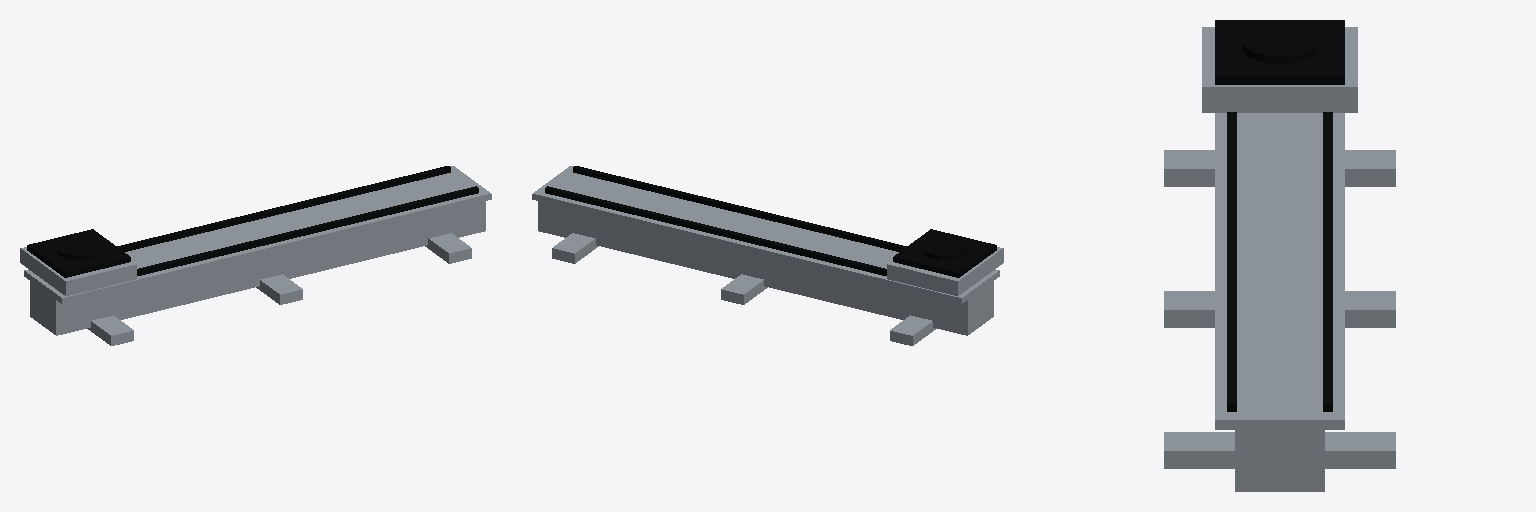
The robot description file, URDF, robot "m0617_rail_prototype":
<?xml version="1.0"?>
<robot name="m0617_rail_prototype">
  <!-- Prototype dimensions. Validate all permanent rail specifications before fabrication. -->
  <material name="rail_aluminum">
    <color rgba="0.62 0.65 0.68 1.0"/>
  </material>
  <material name="rail_dark_metal">
    <color rgba="0.06 0.07 0.08 1.0"/>
  </material>
  <material name="rail_rubber">
    <color rgba="0.025 0.025 0.025 1.0"/>
  </material>

  <link name="world"/>

  <link name="rail_base_link">
    <visual>
      <origin xyz="0 0 0.18" rpy="0 0 0"/>
      <geometry><box size="3.0 0.32 0.24"/></geometry>
      <material name="rail_aluminum"/>
    </visual>
    <visual>
      <origin xyz="0 0 0.32" rpy="0 0 0"/>
      <geometry><box size="3.0 0.46 0.04"/></geometry>
      <material name="rail_aluminum"/>
    </visual>
    <visual>
      <origin xyz="0 0.17 0.355" rpy="0 0 0"/>
      <geometry><box size="2.88 0.035 0.035"/></geometry>
      <material name="rail_dark_metal"/>
    </visual>
    <visual>
      <origin xyz="0 -0.17 0.355" rpy="0 0 0"/>
      <geometry><box size="2.88 0.035 0.035"/></geometry>
      <material name="rail_dark_metal"/>
    </visual>
    <visual>
      <origin xyz="-1.18 0 0.07" rpy="0 0 0"/>
      <geometry><box size="0.16 0.82 0.07"/></geometry>
      <material name="rail_aluminum"/>
    </visual>
    <visual>
      <origin xyz="0 0 0.07" rpy="0 0 0"/>
      <geometry><box size="0.16 0.82 0.07"/></geometry>
      <material name="rail_aluminum"/>
    </visual>
    <visual>
      <origin xyz="1.18 0 0.07" rpy="0 0 0"/>
      <geometry><box size="0.16 0.82 0.07"/></geometry>
      <material name="rail_aluminum"/>
    </visual>
    <collision>
      <origin xyz="0 0 0.165" rpy="0 0 0"/>
      <geometry><box size="3.0 0.46 0.33"/></geometry>
    </collision>
  </link>

  <joint name="world_to_rail_base" type="fixed">
    <parent link="world"/>
    <child link="rail_base_link"/>
    <origin xyz="0 0 0" rpy="0 0 0"/>
  </joint>

  <link name="rail_carriage_link">
    <visual>
      <origin xyz="0 0 0.05" rpy="0 0 0"/>
      <geometry><box size="0.50 0.55 0.10"/></geometry>
      <material name="rail_aluminum"/>
    </visual>
    <visual>
      <origin xyz="0 0 0.1175" rpy="0 0 0"/>
      <geometry><box size="0.46 0.46 0.035"/></geometry>
      <material name="rail_dark_metal"/>
    </visual>
    <collision>
      <origin xyz="0 0 0.0675" rpy="0 0 0"/>
      <geometry><box size="0.50 0.55 0.135"/></geometry>
    </collision>
    <inertial>
      <origin xyz="0 0 0.06" rpy="0 0 0"/>
      <mass value="35.0"/>
      <inertia ixx="0.990" ixy="0" ixz="0" iyy="0.747" iyz="0" izz="1.547"/>
    </inertial>
  </link>

  <joint name="rail_joint" type="prismatic">
    <parent link="rail_base_link"/>
    <child link="rail_carriage_link"/>
    <origin xyz="-1.25 0 0.37" rpy="0 0 0"/>
    <axis xyz="1 0 0"/>
    <limit lower="0.0" upper="2.5" effort="1000.0" velocity="1.5"/>
    <dynamics damping="80.0" friction="20.0"/>
  </joint>

  <!-- Attach the M0617 base_link to this mount link in the combined robot description. -->
  <link name="rail_robot_mount_link">
    <visual>
      <origin xyz="0 0 0.015" rpy="0 0 0"/>
      <geometry><cylinder radius="0.135" length="0.03"/></geometry>
      <material name="rail_dark_metal"/>
    </visual>
    <collision>
      <origin xyz="0 0 0.015" rpy="0 0 0"/>
      <geometry><cylinder radius="0.135" length="0.03"/></geometry>
    </collision>
    <inertial>
      <origin xyz="0 0 0.015" rpy="0 0 0"/>
      <mass value="5.0"/>
      <inertia ixx="0.0232" ixy="0" ixz="0" iyy="0.0232" iyz="0" izz="0.0456"/>
    </inertial>
  </link>

  <joint name="carriage_to_robot_mount" type="fixed">
    <parent link="rail_carriage_link"/>
    <child link="rail_robot_mount_link"/>
    <origin xyz="0 0 0.135" rpy="0 0 0"/>
  </joint>
</robot>

--- What the picture shows (computed from the rendered views, not written in the file) ---
Views: 3 orthographic renders of the robot side by side, from view 1: azimuth 30°, elevation 25°; view 2: azimuth 150°, elevation 25°; view 3: azimuth 270°, elevation 25°.
Robot: m0617_rail_prototype — 4 links, 3 joints (1 prismatic, 2 fixed); root link world; default pose: all joints at 0.
Links seen in each view (by area): view 1: rail_base_link, rail_carriage_link, rail_robot_mount_link; view 2: rail_base_link, rail_carriage_link, rail_robot_mount_link; view 3: rail_base_link, rail_carriage_link, rail_robot_mount_link.
Boxes of the visible links, x1,y1,x2,y2 form: rail_base_link: (24, 166, 491, 345); rail_carriage_link: (20, 229, 136, 295); rail_robot_mount_link: (57, 237, 100, 259); rail_base_link: (532, 166, 999, 345); rail_carriage_link: (887, 229, 1003, 295); rail_robot_mount_link: (923, 237, 966, 259); rail_base_link: (1164, 112, 1395, 491); rail_carriage_link: (1202, 20, 1357, 112); rail_robot_mount_link: (1242, 24, 1317, 63).
Bounding box of the posed robot: 3 × 0.82 × 0.5 m (x, y, z).
Geometry: primitives only (box / cylinder / sphere), no mesh files.
